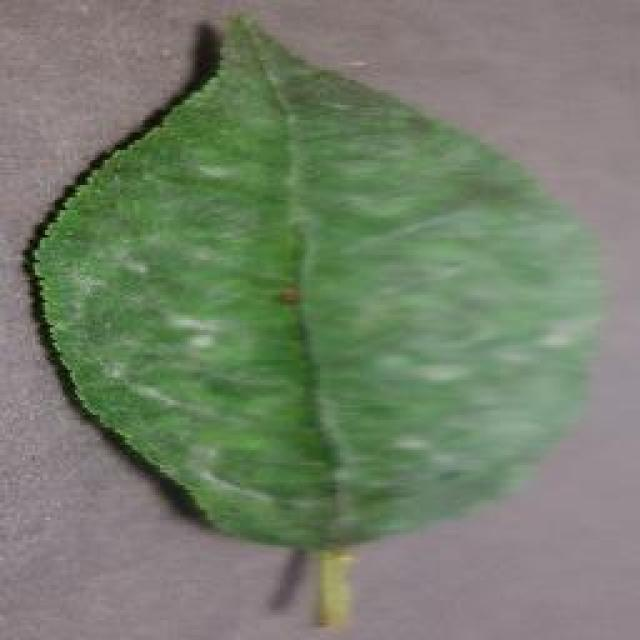Cher_including_sour_Pow_mildew: (117, 170, 525, 479)
